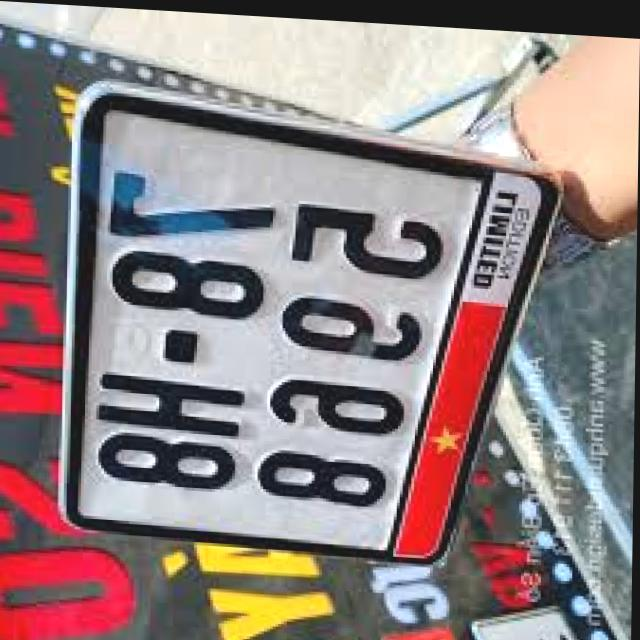a: (73, 82, 479, 591)
bien so: (72, 84, 453, 598)
